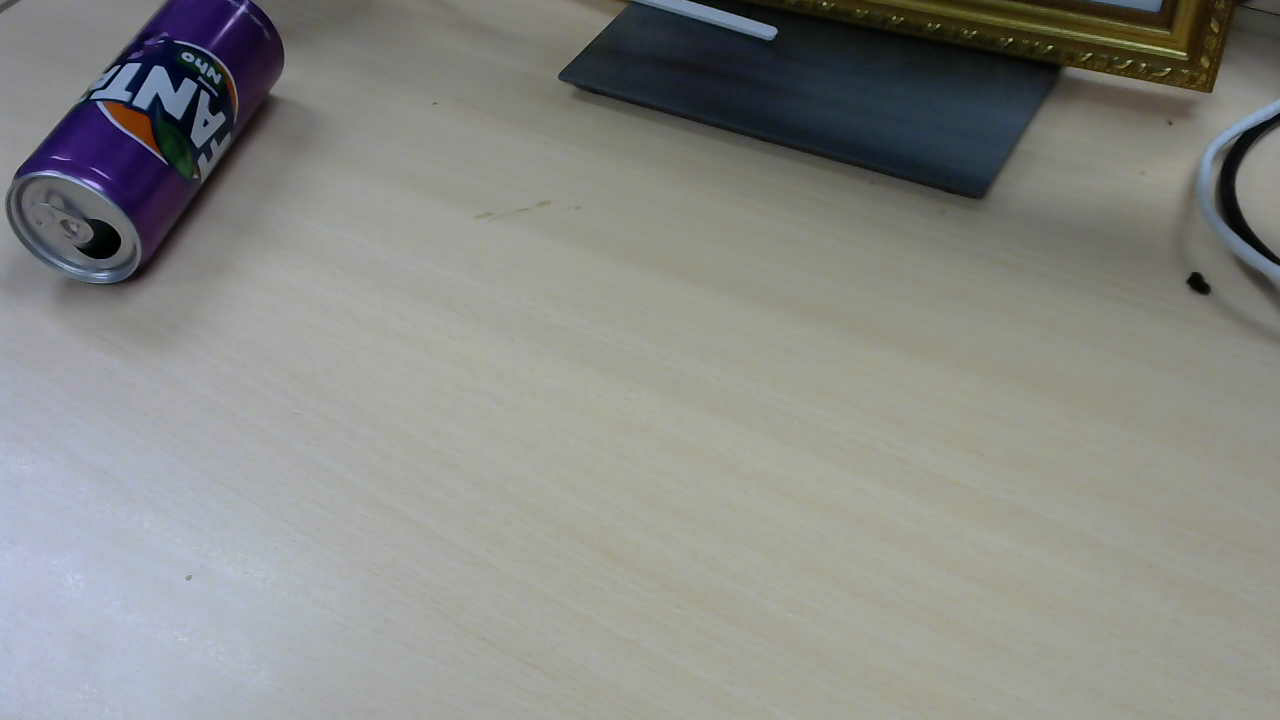Fanta: (12, 5, 292, 290)
